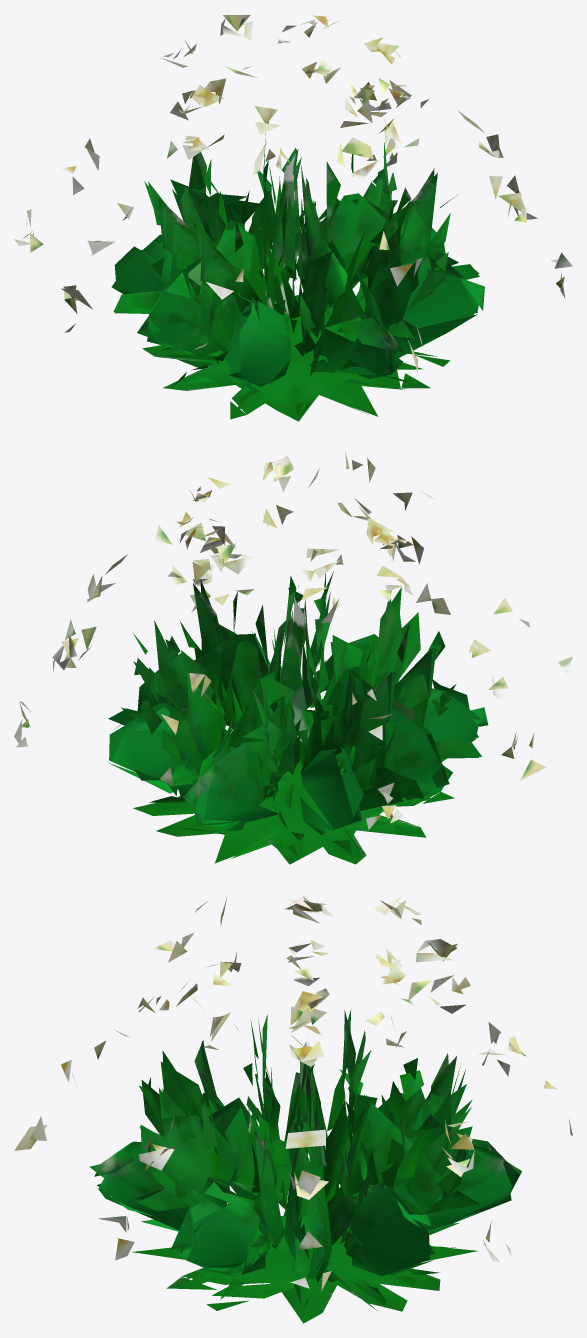
File: Landing_Wildflowers.glb
The picture shows the model from 3 angles, top to bottom: view 1: azimuth 30°, elevation 25°; view 2: azimuth 150°, elevation 25°; view 3: azimuth 270°, elevation 25°; orthographic projection. The views are drawn at different scales.
Visible parts, largest first — view 1: Landing_Wildflowers; view 2: Landing_Wildflowers; view 3: Landing_Wildflowers.
Boxes of the visible parts, left/top/right/bottom form: Landing_Wildflowers: left=14, top=14, right=572, bottom=421; Landing_Wildflowers: left=14, top=451, right=572, bottom=864; Landing_Wildflowers: left=14, top=896, right=572, bottom=1323.
Bounding box in the file's own units: 0.5894 × 0.4086 × 0.5661.
Materials: 1 (1 with a texture image).
